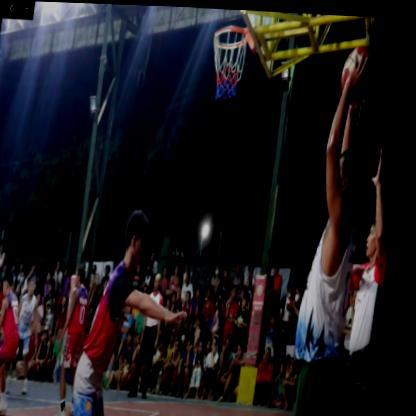basketball: (337, 44, 377, 113)
rim: (202, 11, 261, 107)
